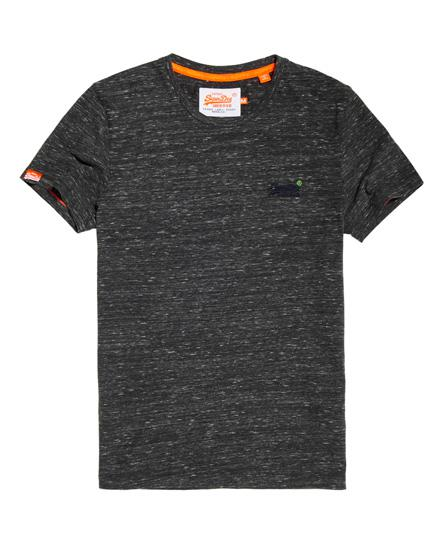teeshirt: (19, 47, 434, 494)
